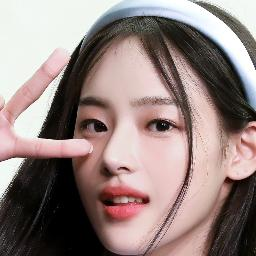summerCool: (74, 44, 212, 254)
